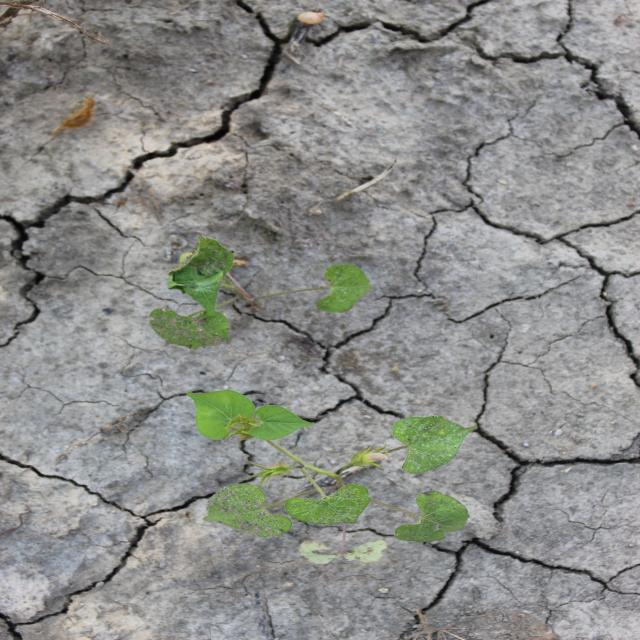MorningGlory: (182, 388, 480, 567), (147, 232, 375, 352)
